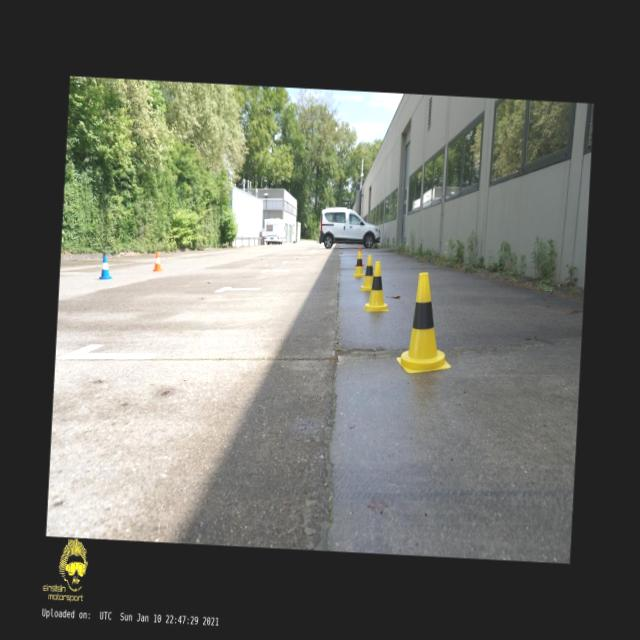blue_cone: (99, 254, 113, 280)
orange_cone: (154, 252, 164, 272), (355, 247, 365, 266)
yellow_cone: (396, 271, 456, 376), (364, 260, 392, 312), (360, 254, 374, 292), (353, 250, 366, 278)
